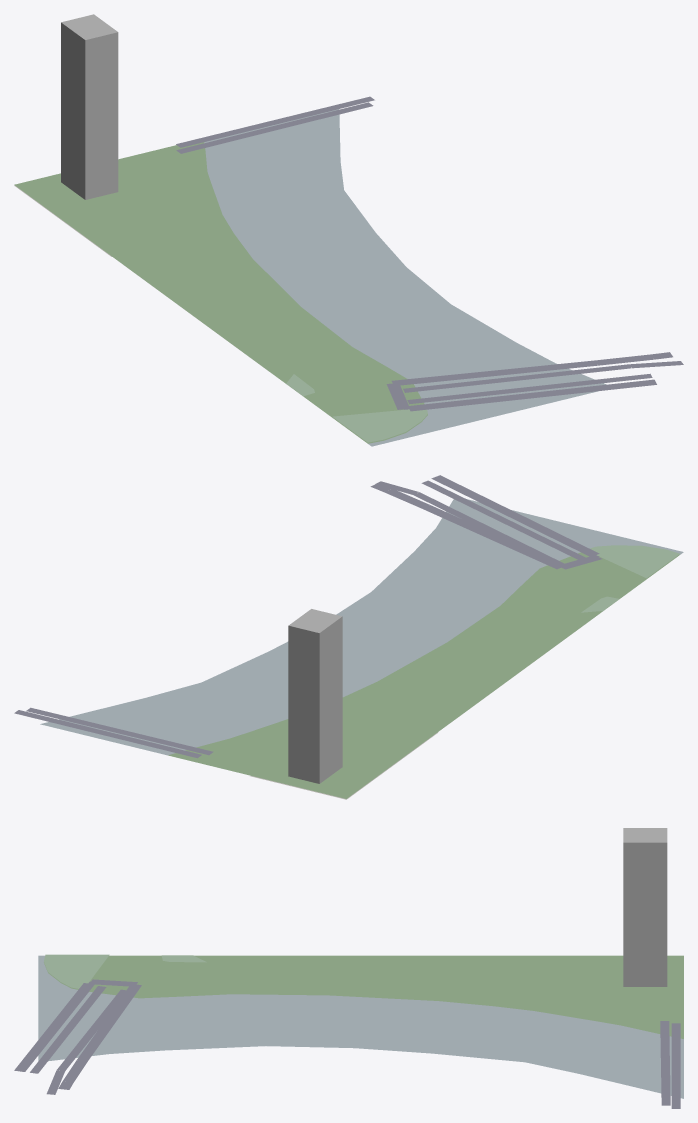
Rendered from 122_82_mid.glb.
The picture shows the model from 3 angles, top to bottom: view 1: azimuth 30°, elevation 25°; view 2: azimuth 150°, elevation 25°; view 3: azimuth 270°, elevation 25°; orthographic projection. The views are drawn at different scales.
Bounding box in the file's own units: 286 × 124 × 519.
